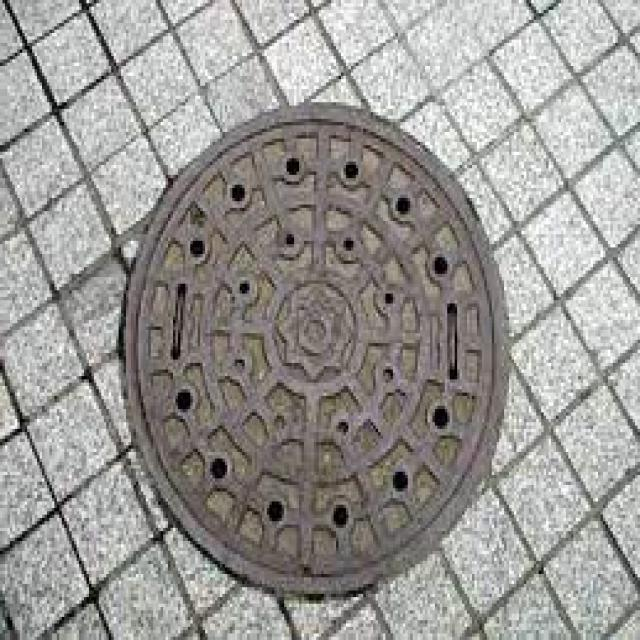Sewer Cover: (100, 80, 531, 609)
